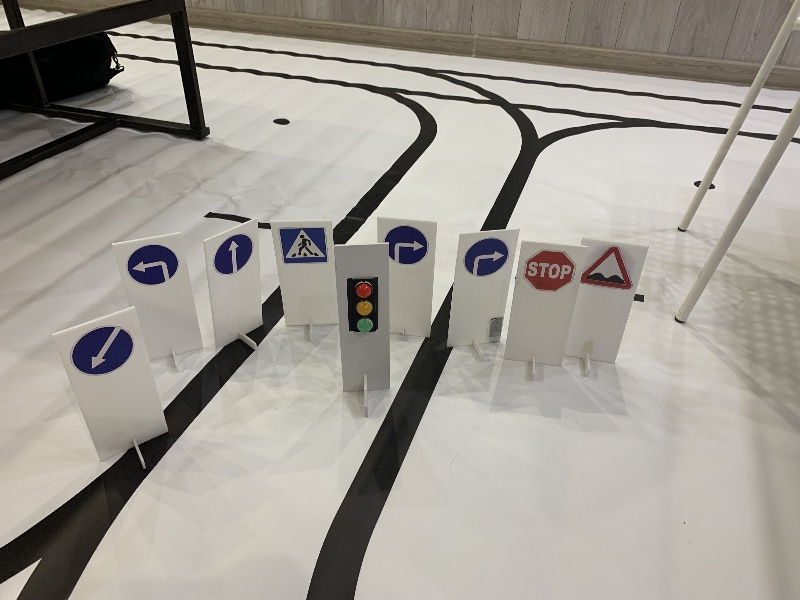Left: (129, 243, 179, 284)
Nerov: (583, 243, 634, 291)
Right: (384, 225, 429, 267), (463, 239, 510, 277)
Stop: (520, 247, 575, 294)
forw: (213, 234, 255, 275)
pesh: (277, 225, 330, 263)
prep: (70, 325, 136, 377)
